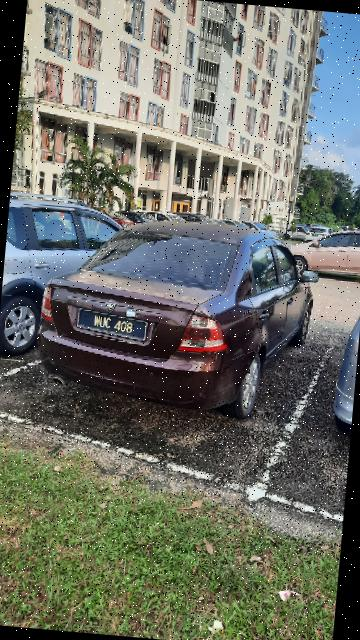License_Plate: (74, 302, 154, 346)
car: (40, 205, 324, 422), (1, 193, 137, 373)
